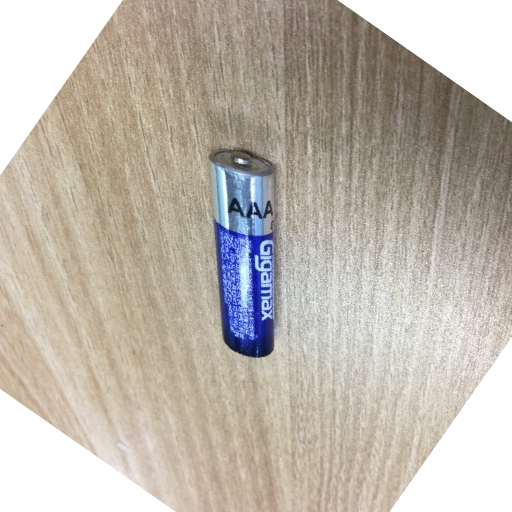Battery_0: (192, 135, 298, 374)
